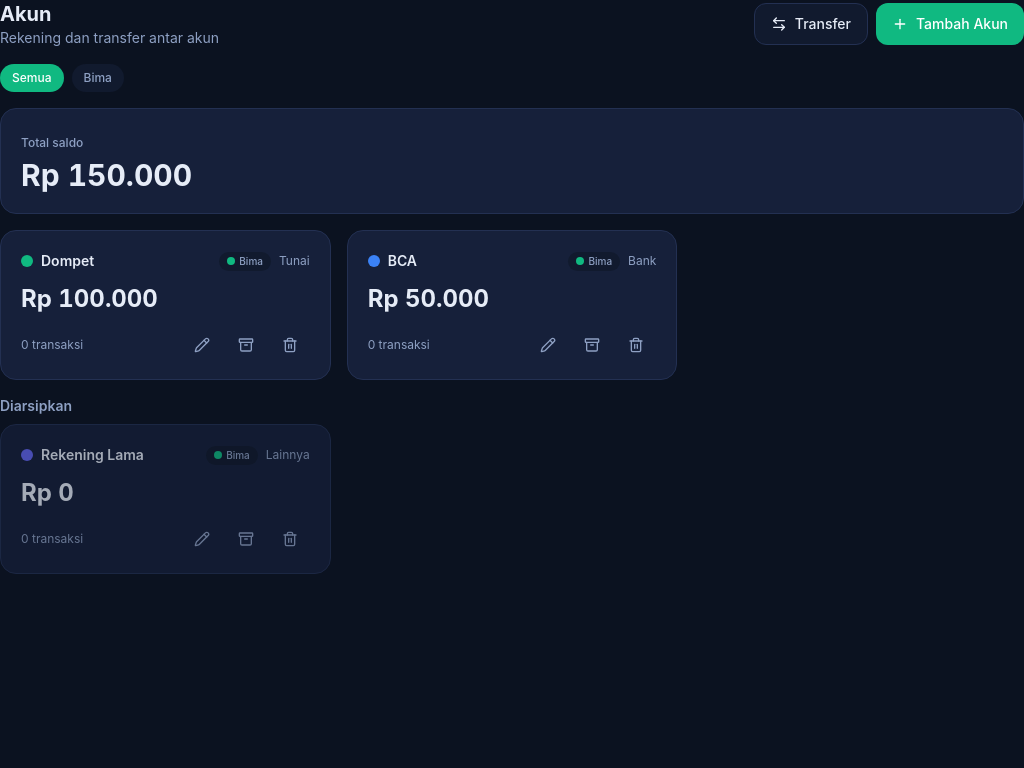
AccountsPage › opens a pre-filled form when editing an account
expect the heading "Dompet" is shown: met, box x1=41 y1=252 x2=94 y2=269
Step 1. Click the button named "Ubah" below "Rp 100.000" → point(202, 345), box x1=182 y1=331 x2=222 y2=359
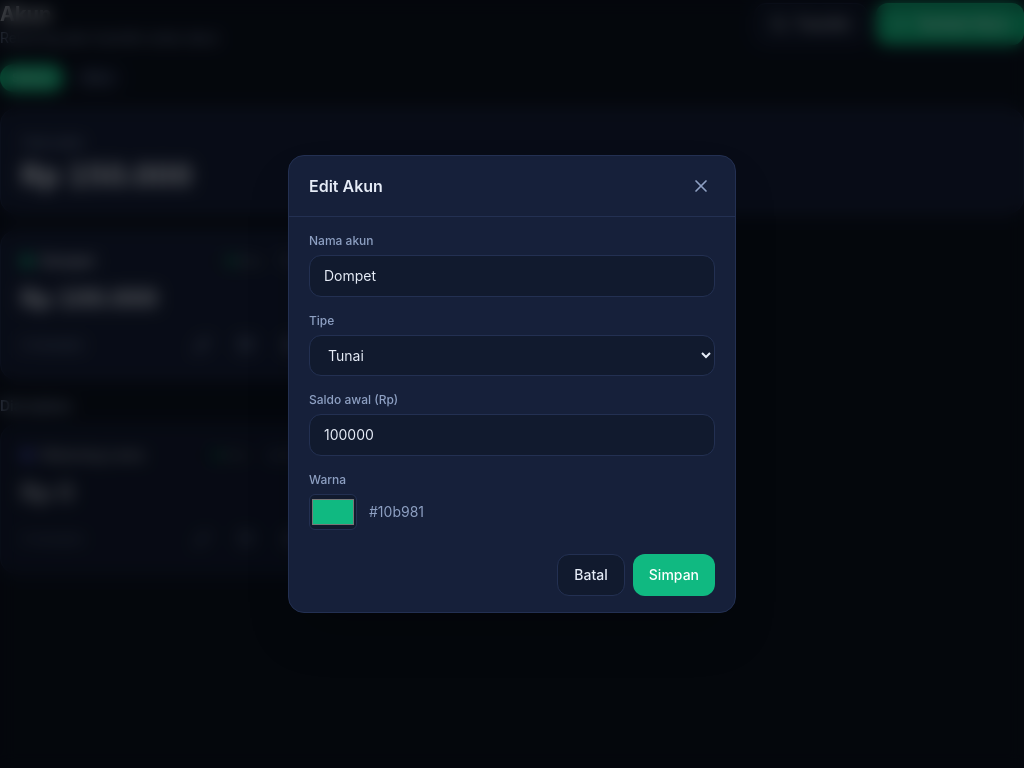
expect the heading "Edit Akun" is shown: met, box x1=309 y1=174 x2=383 y2=198
expect the field labelled "Nama akun" holds "Dompet": met, box x1=309 y1=255 x2=715 y2=297
